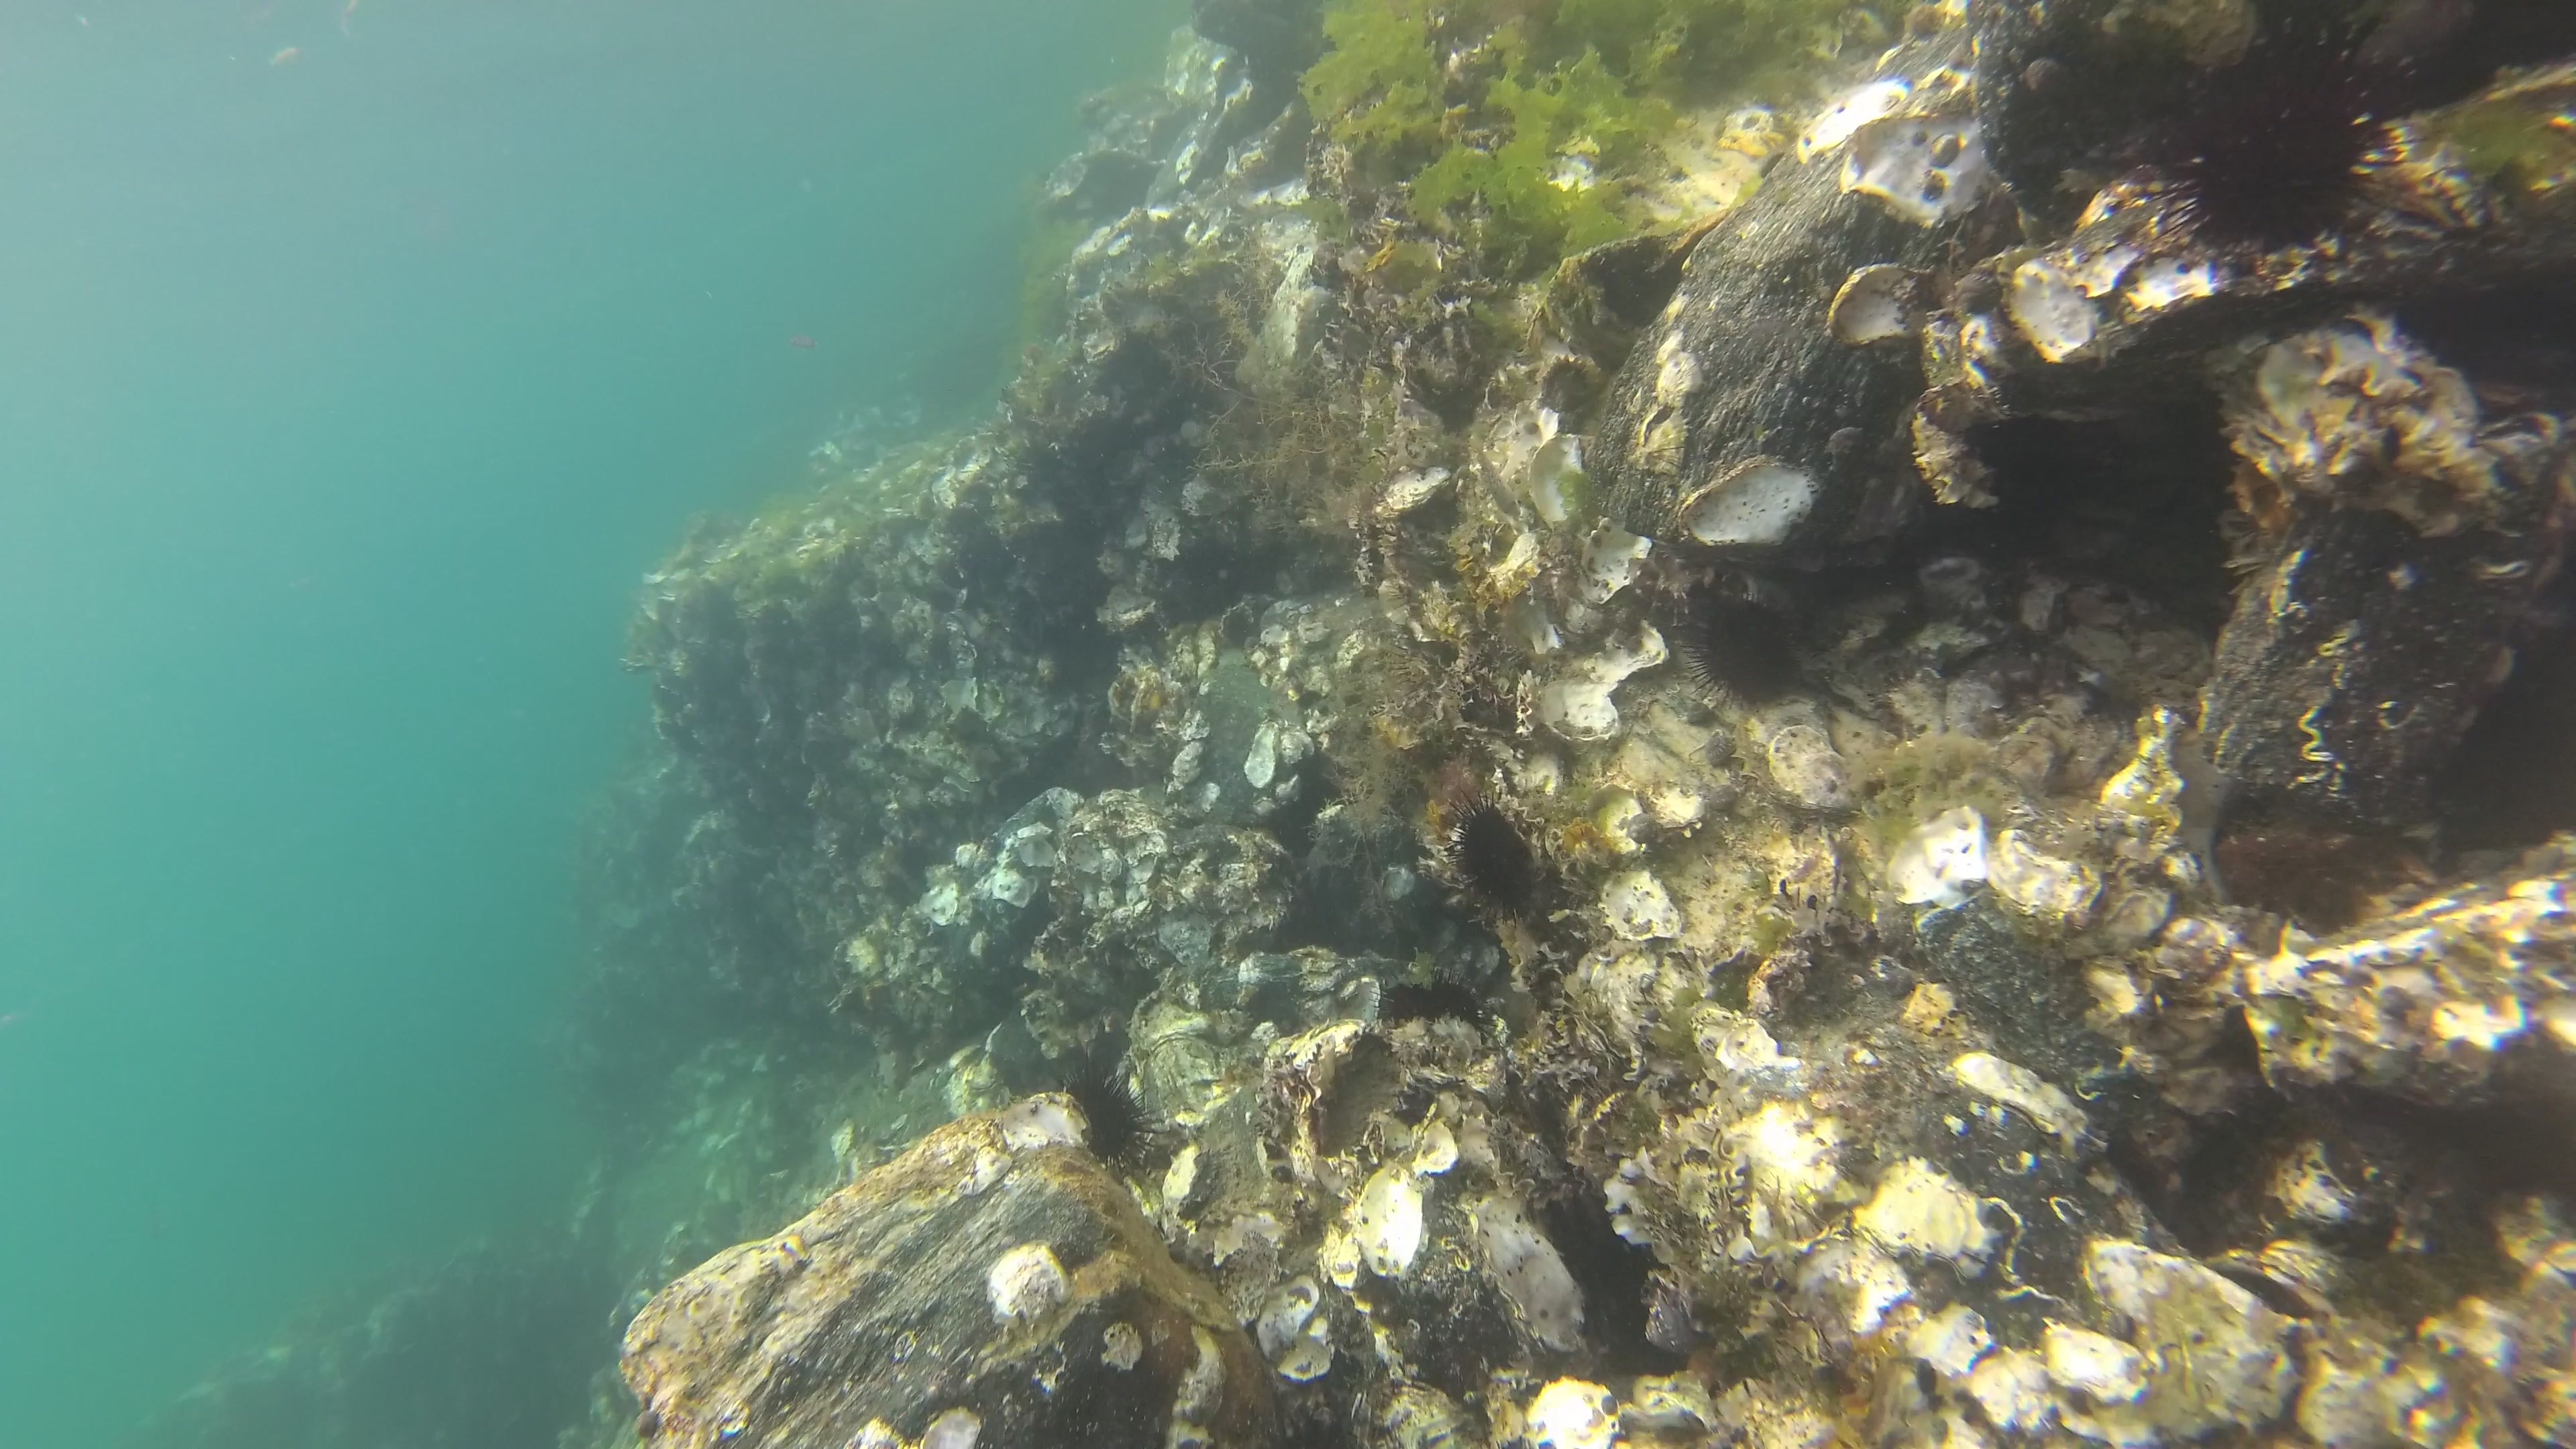echinus: (1442, 780, 1543, 924), (1056, 1058, 1161, 1169), (1691, 596, 1790, 713), (1382, 973, 1484, 1030)
